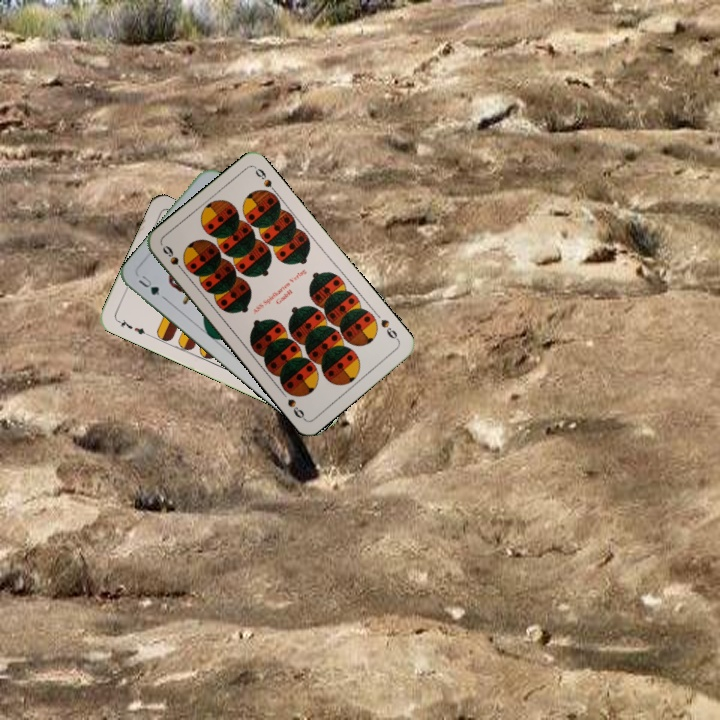E7: (113, 315, 152, 338)
GU: (134, 270, 162, 298)
S9: (158, 241, 188, 276), (377, 315, 402, 344)
